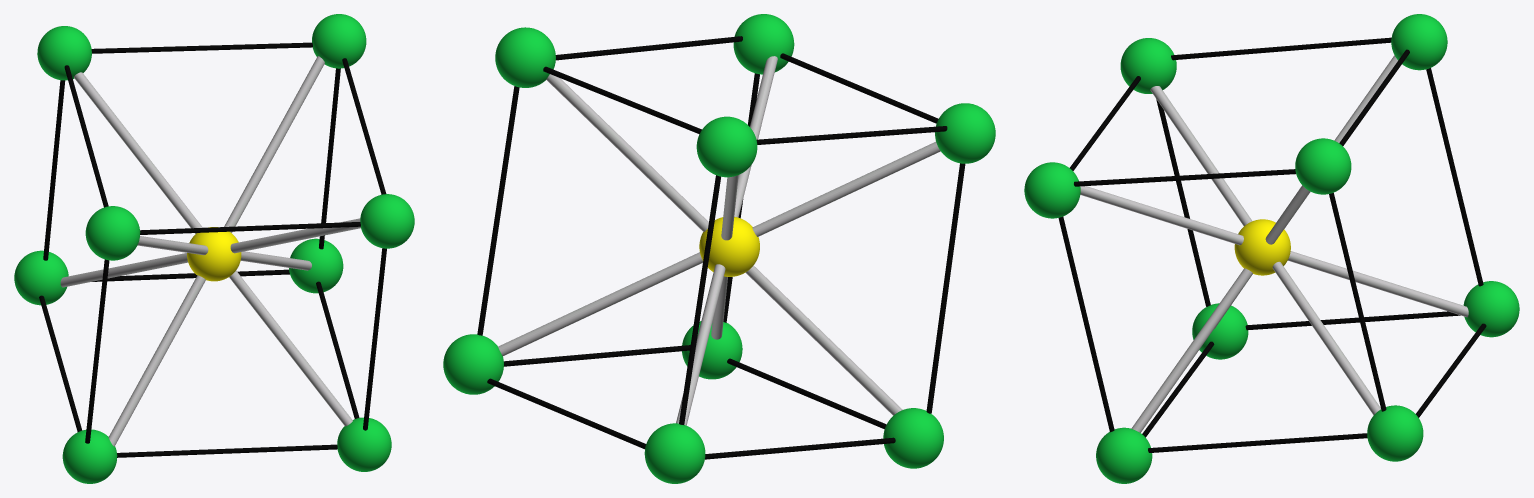
Rendered from AtomMetal.fbx.
The picture shows the model from 3 angles, left to right: view 1: azimuth 30°, elevation 25°; view 2: azimuth 150°, elevation 25°; view 3: azimuth 270°, elevation 25°; orthographic projection. The views are drawn at different scales.
Parts seen in each view (by area): view 1: node_id39, node_id49, node_id45, node_id70, node_id79, node_id81, node_id77, node_id68, node_id72, node_id66, node_id75, node_id51 (+13 smaller); view 2: node_id47, node_id49, node_id72, node_id66, node_id45, node_id75, node_id70, node_id81, node_id68, node_id79, node_id51, node_id77 (+12 smaller); view 3: node_id45, node_id47, node_id39, node_id81, node_id75, node_id79, node_id77, node_id72, node_id66, node_id70, node_id51, node_id68 (+13 smaller).
Part boxes in pixels (<box>): node_id39: <box>74,72,352,426</box>; node_id49: <box>108,56,324,446</box>; node_id45: <box>60,218,360,287</box>; node_id70: <box>85,206,140,260</box>; node_id79: <box>360,194,414,248</box>; node_id81: <box>312,14,366,68</box>; node_id77: <box>337,417,391,471</box>; node_id68: <box>62,429,117,483</box>; node_id72: <box>37,26,91,80</box>; node_id66: <box>14,250,68,305</box>; node_id75: <box>289,238,343,293</box>; node_id51: <box>187,227,241,281</box>; node_id47: <box>498,141,940,355</box>; node_id49: <box>546,74,902,415</box>; node_id72: <box>696,116,757,177</box>; node_id66: <box>644,423,705,483</box>; node_id45: <box>676,56,777,425</box>; node_id75: <box>443,334,503,394</box>; node_id70: <box>935,103,995,163</box>; node_id81: <box>495,27,555,87</box>; node_id68: <box>883,408,943,468</box>; node_id79: <box>733,14,794,74</box>; node_id51: <box>699,217,759,276</box>; node_id77: <box>682,321,742,379</box>; node_id45: <box>1080,186,1468,317</box>; node_id47: <box>1150,86,1380,415</box>; node_id39: <box>1131,55,1397,432</box>; node_id81: <box>1295,138,1351,194</box>; node_id75: <box>1367,405,1423,461</box>; node_id79: <box>1024,162,1080,218</box>; node_id77: <box>1096,427,1152,483</box>; node_id72: <box>1391,14,1447,70</box>; node_id66: <box>1463,281,1519,337</box>; node_id70: <box>1120,38,1176,93</box>; node_id51: <box>1234,219,1290,275</box>; node_id68: <box>1192,303,1248,359</box>.
Size of the model in its own units: 0.4917 by 0.4755 by 0.5529.
Materials: 25 (25 with a texture image).
